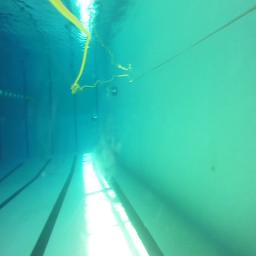Full: (108, 90, 118, 96), (92, 115, 98, 121)
